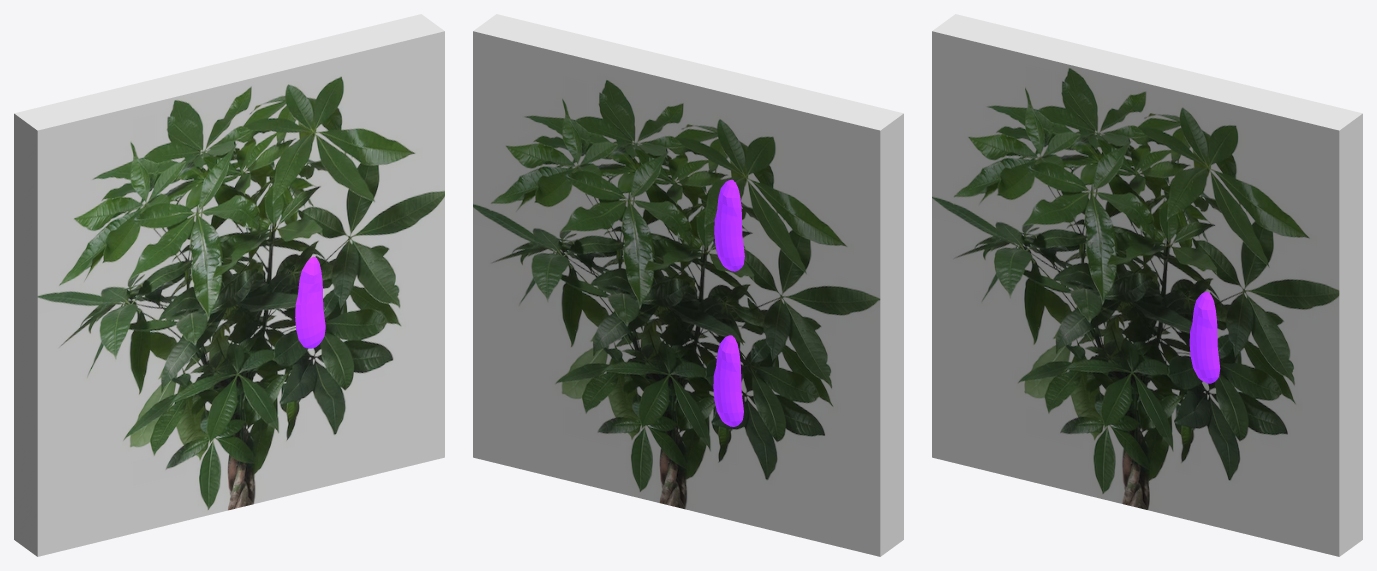
Rendered from eggplant_3.dae.
3 views of the same model, side by side, from view 1: azimuth 30°, elevation 25°; view 2: azimuth 150°, elevation 25°; view 3: azimuth 330°, elevation 25° (orthographic).
Visible parts, largest first — view 1: Cube, Sphere.001; view 2: Cube, Sphere.002, Sphere; view 3: Cube, Sphere.001.
Boxes of the visible parts, left/top/right/bottom form: Cube: left=14, top=14, right=444, bottom=556; Sphere.001: left=295, top=256, right=325, bottom=348; Cube: left=473, top=14, right=903, bottom=556; Sphere.002: left=713, top=335, right=743, bottom=426; Sphere: left=714, top=179, right=744, bottom=271; Cube: left=932, top=14, right=1362, bottom=556; Sphere.001: left=1189, top=291, right=1220, bottom=383.
Size of the model in its own units: 1 by 0.1301 by 1.
2 materials, 1 textured.
